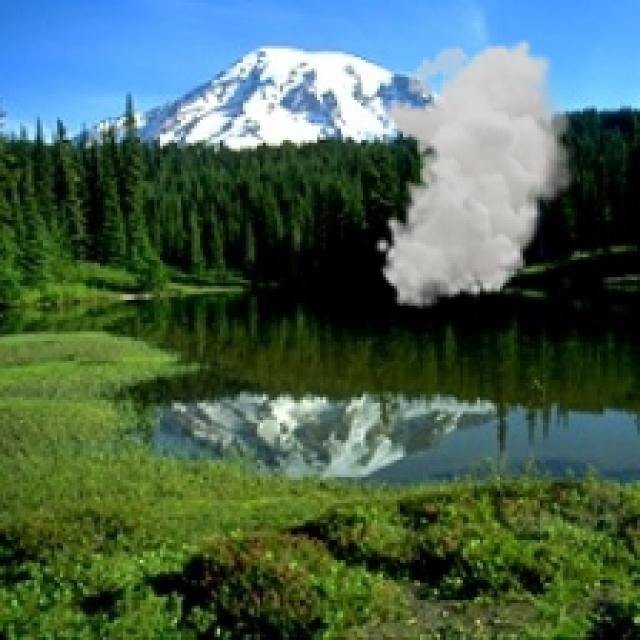smoke: (374, 37, 580, 309)
